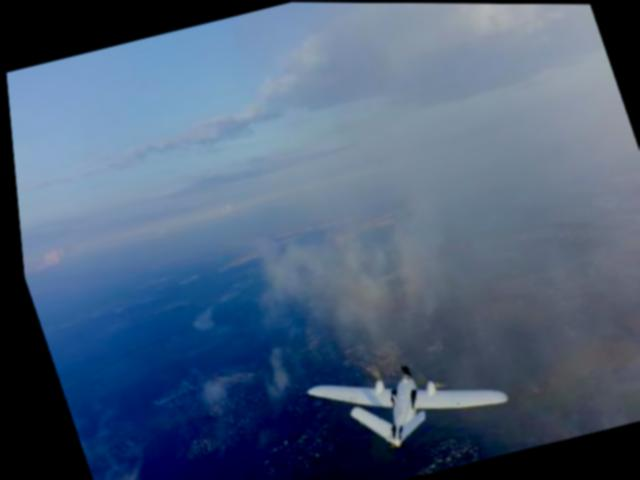uav: (291, 335, 513, 467)
